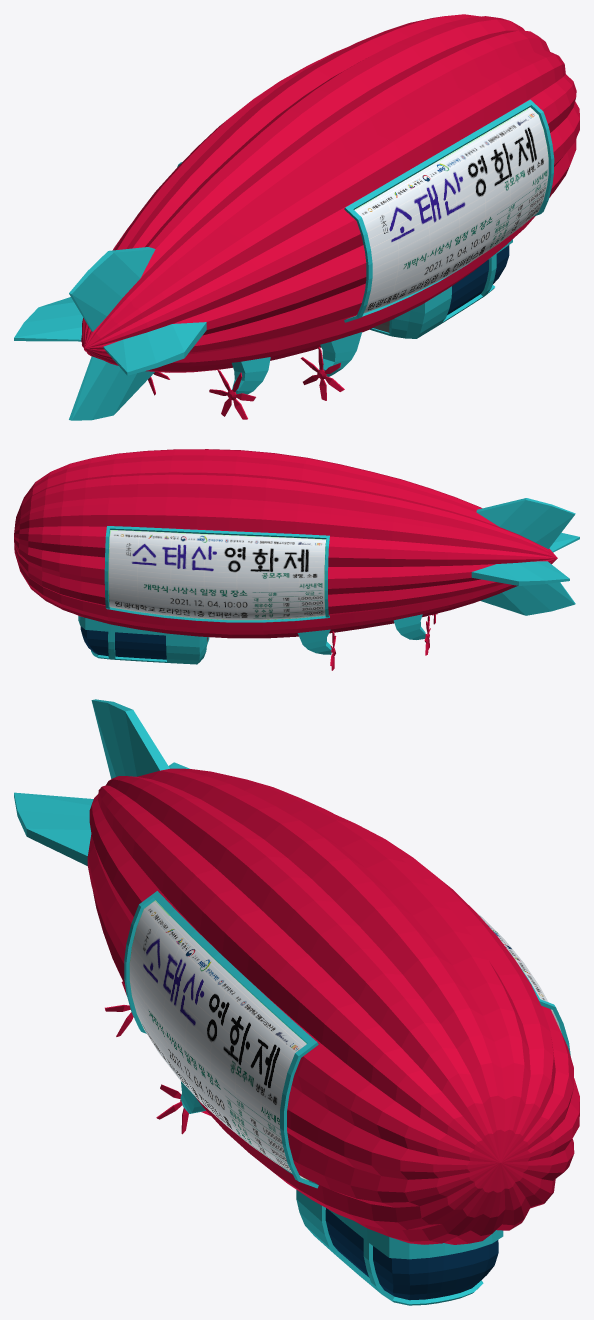
Rendered from 비행선map.fbx.
3 views of the same model, one above another, from view 1: azimuth 30°, elevation 25°; view 2: azimuth 150°, elevation 25°; view 3: azimuth 270°, elevation 25° (orthographic). The views are drawn at different scales.
Visible parts, largest first — view 1: baloon, cube2, wings, cabin_1, cube, sper, propeller4, propeller2; view 2: baloon, cube2, wings, cabin_1, cube1, sper; view 3: baloon, cube2, cabin_1, wings, cube.
Boxes of the visible parts, x1=… form: baloon: x1=81, y1=14, x2=579, y2=372; cube2: x1=354, y1=107, x2=548, y2=316; wings: x1=14, y1=247, x2=206, y2=420; cabin_1: x1=369, y1=239, x2=512, y2=338; cube: x1=344, y1=99, x2=554, y2=322; sper: x1=231, y1=332, x2=361, y2=394; propeller4: x1=209, y1=369, x2=255, y2=419; propeller2: x1=300, y1=347, x2=344, y2=400; baloon: x1=14, y1=449, x2=557, y2=638; cube2: x1=108, y1=530, x2=326, y2=620; wings: x1=471, y1=498, x2=579, y2=615; cabin_1: x1=78, y1=616, x2=209, y2=664; cube1: x1=104, y1=526, x2=329, y2=622; sper: x1=297, y1=614, x2=425, y2=654; baloon: x1=87, y1=768, x2=579, y2=1244; cube2: x1=129, y1=900, x2=561, y2=1180; cabin_1: x1=296, y1=1190, x2=503, y2=1305; wings: x1=14, y1=699, x2=189, y2=865; cube: x1=124, y1=891, x2=318, y2=1188.
Bounding box in the file's own units: 285 × 113 × 169.
